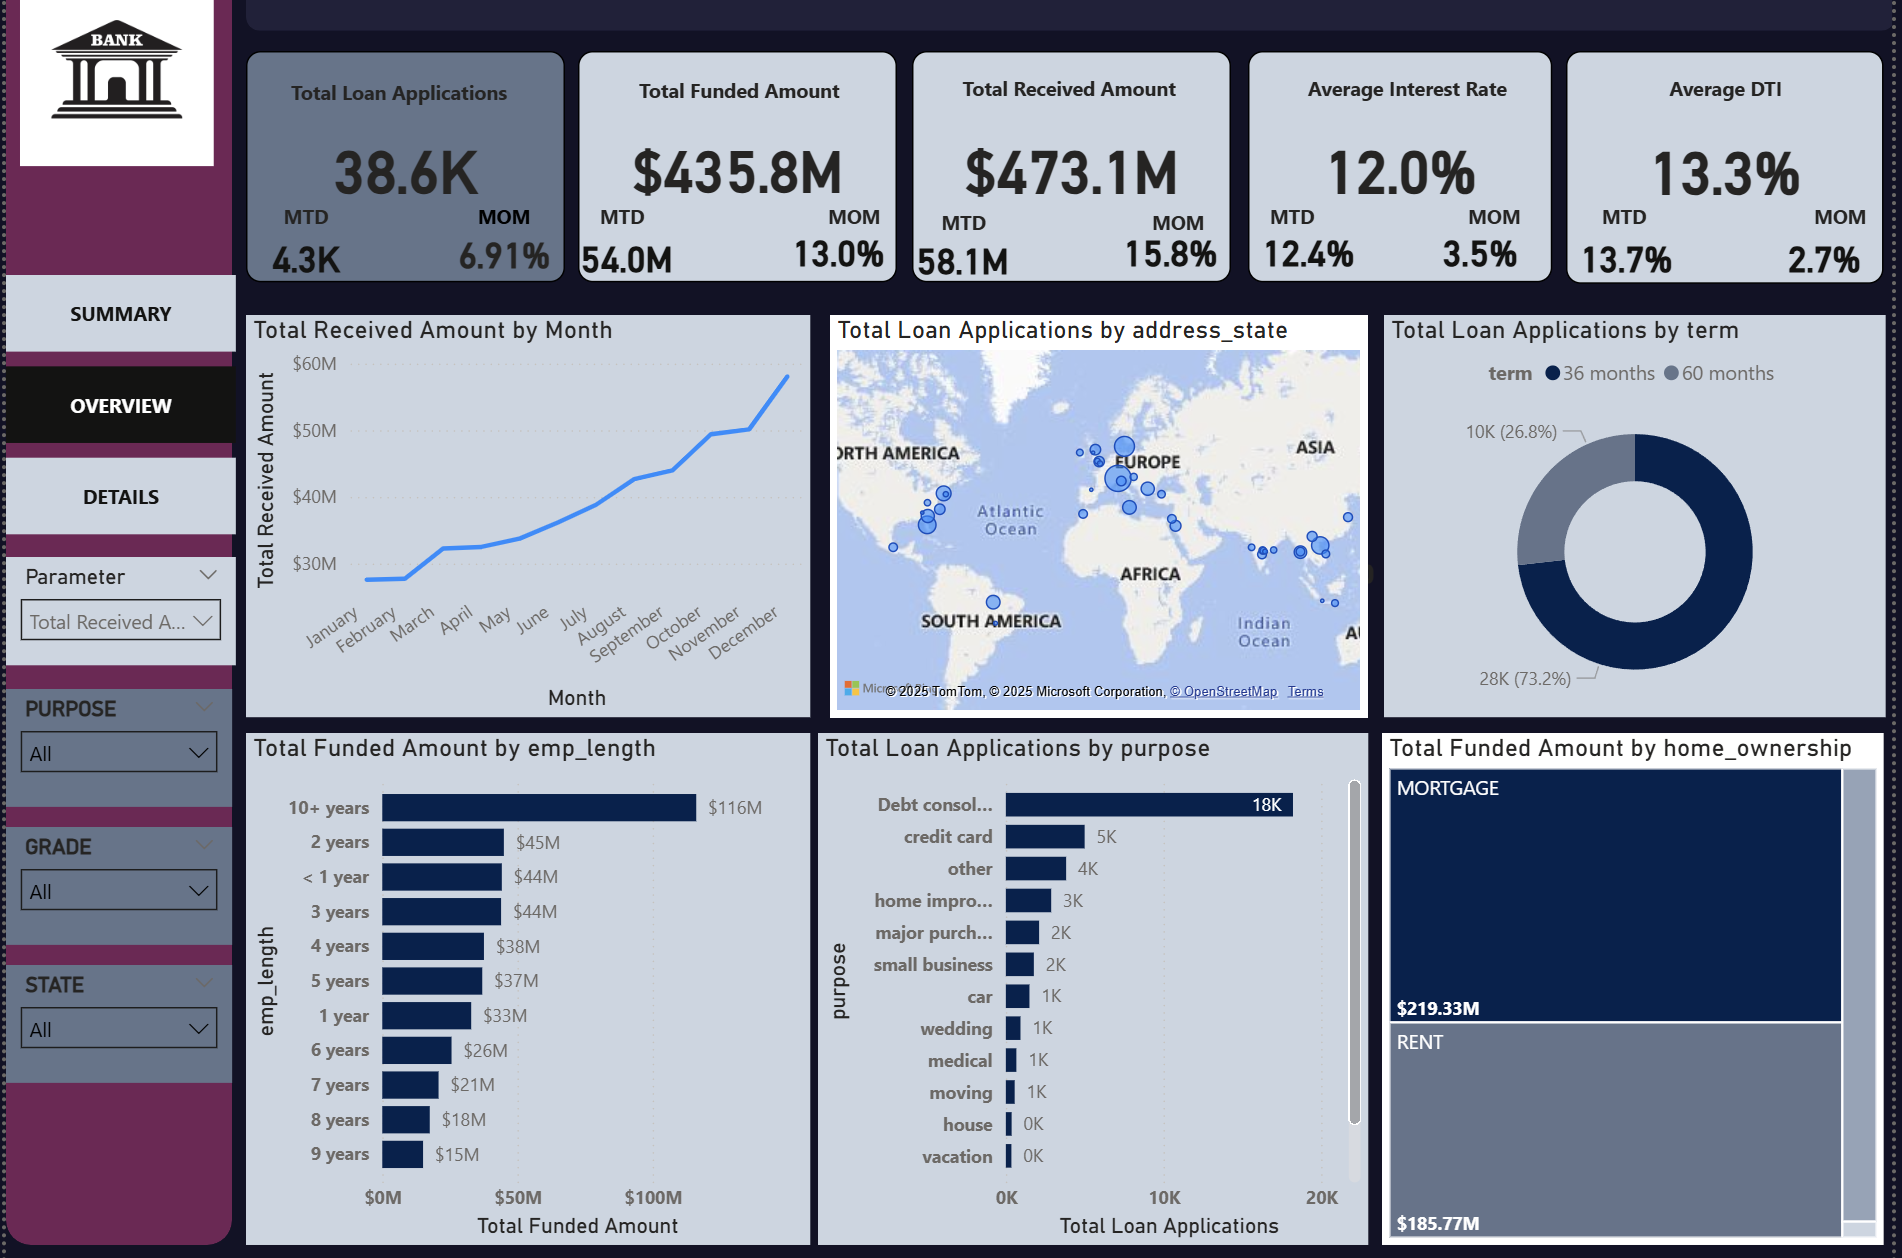

Layout of this report page (visuals, bound fields, positions):
{"tool":"powerbi","page":{"name":"OVERVIEW","canvas":[1280,900],"ordinal":1},"visuals":[{"type":"shape","box":[163.2,0,1119.4,66.3],"z":0},{"type":"textbox","box":[530.4,0,470.4,66.3],"z":1000},{"type":"shape","box":[0,0,153.4,890.5],"z":2000},{"type":"card","fields":{"Values":["financial_loan_full.Total Loan Applications"]},"box":[163.2,80.3,216.7,156.8],"z":3000},{"type":"textbox","box":[172.1,93.1,188.7,31.9],"z":4000},{"type":"card","fields":{"Values":["financial_loan_full.MTD Loan Application"]},"box":[172.1,205.3,62.5,31.9],"z":5000},{"type":"textbox","box":[172.1,177.2,62.5,28],"z":6000},{"type":"textbox","box":[295.8,177.2,84.1,28],"z":7000},{"type":"card","title":"Total Funded Amount","fields":{"Values":["financial_loan_full.Total Funded Amount"]},"box":[388.8,80.3,216.7,156.8],"z":8000},{"type":"card","fields":{"Values":["financial_loan_full.Total Received Amount"]},"box":[614.5,80.3,216.7,156.8],"z":9000},{"type":"card","fields":{"Values":["financial_loan_full.Average Interest Rate"]},"box":[842.7,80.3,206.5,156.8],"z":10000},{"type":"card","fields":{"Values":["financial_loan_full.Average DTI"]},"box":[1059.4,80.3,215.5,158.1],"z":11000},{"type":"card","fields":{"Values":["financial_loan_full.MOM Loan Application"]},"box":[286.9,196.3,103.3,42.1],"z":12000},{"type":"textbox","box":[406.7,91.8,181,31.9],"z":13000},{"type":"textbox","box":[388.8,177.2,59.9,28],"z":14000},{"type":"textbox","box":[545.7,177.2,59.9,28],"z":15000},{"type":"card","fields":{"Values":["financial_loan_full.MTD Funded Amount"]},"box":[379.9,205.3,81.6,31.9],"z":16000},{"type":"card","fields":{"Values":["financial_loan_full.MOM Funded Amount"]},"box":[524,201.4,81.6,31.9],"z":17000},{"type":"textbox","box":[628.5,90.5,186.1,34.4],"z":18000},{"type":"textbox","box":[614.5,182.3,70.1,28],"z":19000},{"type":"textbox","box":[766.2,182.3,59.9,28],"z":20000},{"type":"card","fields":{"Values":["financial_loan_full.MTD Recieved Amount"]},"box":[608.1,206.5,81.6,31.9],"z":21000},{"type":"card","fields":{"Values":["financial_loan_full.MOM Received Amount"]},"box":[749.6,201.4,81.6,31.9],"z":22000},{"type":"textbox","box":[860.6,90.5,181,31.9],"z":23000},{"type":"textbox","box":[970.2,178.5,79,28],"z":24000},{"type":"textbox","box":[842.7,178.5,59.9,28],"z":25000},{"type":"card","fields":{"Values":["financial_loan_full.MTD Average rate"]},"box":[842.7,201.4,81.6,31.9],"z":26000},{"type":"card","fields":{"Values":["financial_loan_full.MOM Average Interest Rate"]},"box":[960,201.4,81.6,31.9],"z":27000},{"type":"textbox","box":[1068.4,90.5,197.6,31.9],"z":28000},{"type":"textbox","box":[1215,178.5,59.9,28],"z":29000},{"type":"textbox","box":[1068.4,178.5,59.9,28],"z":30000},{"type":"card","fields":{"Values":["financial_loan_full.MTD average DTI"]},"box":[1059.4,205.3,81.6,31.9],"z":31000},{"type":"card","fields":{"Values":["financial_loan_full.MOM Average DTI"]},"box":[1193.3,205.3,81.6,31.9],"z":32000},{"type":"card","fields":{"Values":["financial_loan_full.Good Loan %"]},"box":[266.1,397.7,101.8,62.4],"z":33000},{"type":"card","fields":{"Values":["financial_loan_full.Bad Loan %"]},"box":[832.1,397.7,103.2,62.4],"z":34000},{"type":"slicer","fields":{"Values":["financial_loan_full.purpose"]},"box":[0,513.1,153.4,80.1],"z":35000},{"type":"slicer","fields":{"Values":["financial_loan_full.grade"]},"box":[0,606.8,153.4,80.1],"z":36000},{"type":"slicer","fields":{"Values":["financial_loan_full.address_state"]},"box":[0,700.5,153.4,80.1],"z":37000},{"type":"lineChart","fields":{"Y":["financial_loan_full.Total Received Amount"],"Category":["Date table.Date.Variation.Date Hierarchy.Month"]},"box":[162.9,259.3,382.8,272.9],"z":38000},{"type":"slicer","fields":{"Values":["Parameter.Parameter"]},"box":[0,423.5,156.1,73.3],"z":39000},{"type":"map","fields":{"Size":["financial_loan_full.Total Loan Applications"],"Category":["financial_loan_full.address_state"]},"box":[559.3,259.3,365.2,272.9],"z":40000},{"type":"actionButton","box":[0,0,100,40],"z":41000},{"type":"donutChart","fields":{"Category":["financial_loan_full.term"],"Y":["financial_loan_full.Total Loan Applications"]},"box":[935.3,259.3,340.7,272.9],"z":42000},{"type":"clusteredBarChart","fields":{"Y":["financial_loan_full.Total Funded Amount"],"Category":["financial_loan_full.emp_length"]},"box":[162.9,543,382.8,347.5],"z":43000},{"type":"clusteredBarChart","fields":{"Y":["financial_loan_full.Total Loan Applications"],"Category":["financial_loan_full.purpose"]},"box":[551.1,543,373.3,347.5],"z":44000},{"type":"treemap","fields":{"Group":["financial_loan_full.home_ownership"],"Values":["financial_loan_full.Total Funded Amount"]},"box":[933.9,543,340.7,347.5],"z":45000},{"type":"pageNavigator","box":[0,232.1,156.1,177.8],"z":46000},{"type":"image","box":[0,21.4,150,141.4],"z":46001}]}

Visuals, with their boxes in screenshot pixels (x1, y1, x2, y2):
shape: 242,0,1900,24
textbox: 786,0,1483,24
shape: 0,0,227,1245
card - financial_loan_full.Total Loan Applications: 242,45,563,277
textbox: 255,64,535,111
card - financial_loan_full.MTD Loan Application: 255,230,348,277
textbox: 255,188,348,230
textbox: 438,188,563,230
"Total Funded Amount" card: 576,45,897,277
card - financial_loan_full.Total Received Amount: 911,45,1232,277
card - financial_loan_full.Average Interest Rate: 1249,45,1555,277
card - financial_loan_full.Average DTI: 1570,45,1889,279
card - financial_loan_full.MOM Loan Application: 425,217,578,279
textbox: 603,62,871,109
textbox: 576,188,665,230
textbox: 809,188,897,230
card - financial_loan_full.MTD Funded Amount: 563,230,684,277
card - financial_loan_full.MOM Funded Amount: 776,224,897,271
textbox: 931,60,1207,111
textbox: 911,196,1014,237
textbox: 1135,196,1224,237
card - financial_loan_full.MTD Recieved Amount: 901,232,1022,279
card - financial_loan_full.MOM Received Amount: 1111,224,1232,271
textbox: 1275,60,1543,107
textbox: 1438,190,1555,232
textbox: 1249,190,1337,232
card - financial_loan_full.MTD Average rate: 1249,224,1370,271
card - financial_loan_full.MOM Average Interest Rate: 1422,224,1543,271
textbox: 1583,60,1876,107
textbox: 1800,190,1889,232
textbox: 1583,190,1672,232
card - financial_loan_full.MTD average DTI: 1570,230,1691,277
card - financial_loan_full.MOM Average DTI: 1768,230,1889,277
card - financial_loan_full.Good Loan %: 394,515,545,607
card - financial_loan_full.Bad Loan %: 1233,515,1386,607
slicer - financial_loan_full.purpose: 0,686,227,805
slicer - financial_loan_full.grade: 0,825,227,944
slicer - financial_loan_full.address_state: 0,964,227,1082
lineChart - financial_loan_full.Total Received Amount x Date table.Date.Variation.Date Hierarchy.Month: 241,310,809,714
slicer - Parameter.Parameter: 0,553,231,662
map - financial_loan_full.Total Loan Applications x financial_loan_full.address_state: 829,310,1370,714
donutChart - financial_loan_full.term x financial_loan_full.Total Loan Applications: 1386,310,1891,714
clusteredBarChart - financial_loan_full.Total Funded Amount x financial_loan_full.emp_length: 241,730,809,1245
clusteredBarChart - financial_loan_full.Total Loan Applications x financial_loan_full.purpose: 817,730,1370,1245
treemap - financial_loan_full.home_ownership x financial_loan_full.Total Funded Amount: 1384,730,1889,1245
pageNavigator: 0,270,231,533
image: 0,0,222,167
